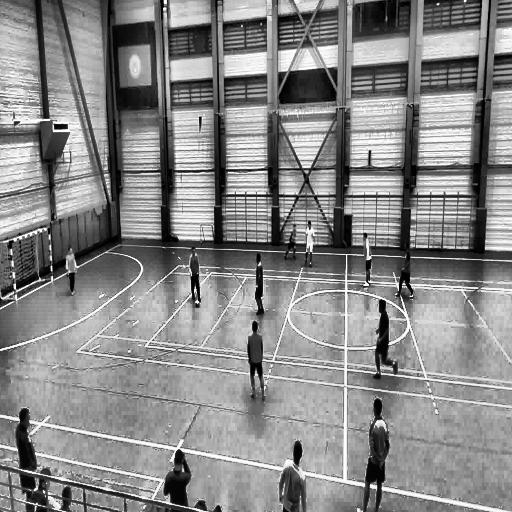ball: (195, 300, 200, 307)
player: (358, 397, 389, 512), (15, 411, 38, 512), (279, 440, 306, 512), (374, 298, 397, 379), (248, 319, 267, 401), (396, 240, 414, 297), (189, 247, 201, 306), (254, 250, 264, 315), (66, 246, 78, 295), (361, 233, 371, 289), (304, 220, 315, 266), (284, 224, 296, 261)
